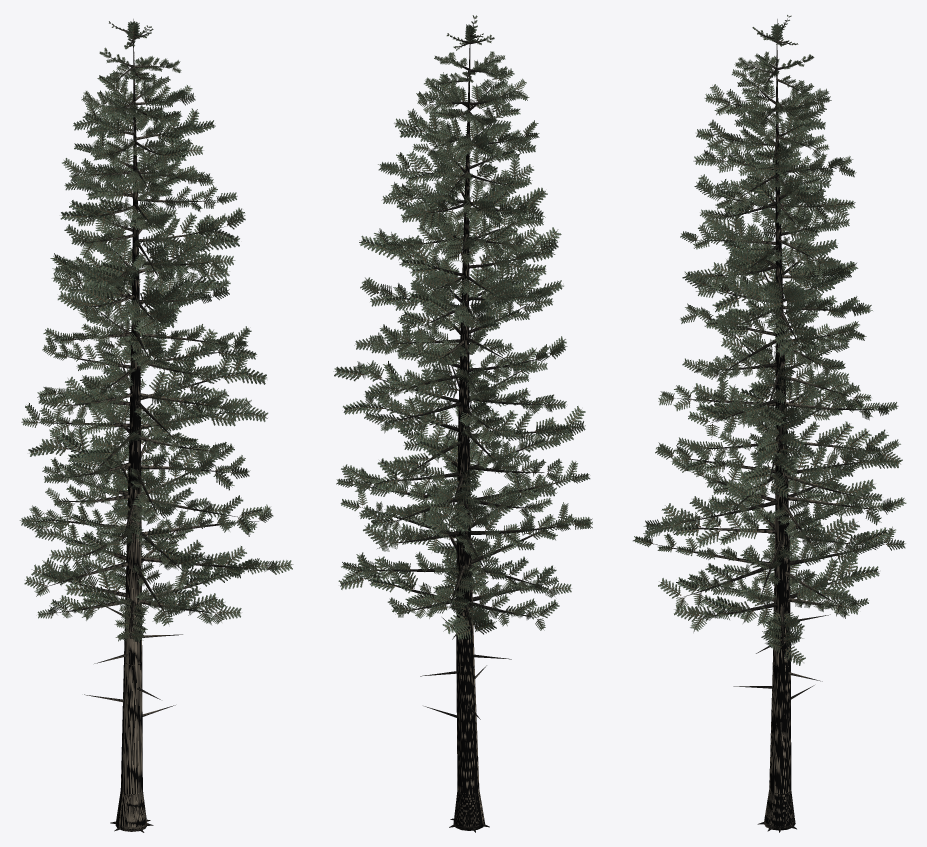
The model's file is Sitka_OldLarge_02_Unpruned_LOD0.fbx.
3 views of the same model, side by side, from view 1: azimuth 30°, elevation 25°; view 2: azimuth 150°, elevation 25°; view 3: azimuth 270°, elevation 25° (orthographic).
Visible parts, largest first — view 1: Sitka_OldLarge_02_Unpruned_LOD0; view 2: Sitka_OldLarge_02_Unpruned_LOD0; view 3: Sitka_OldLarge_02_Unpruned_LOD0.
Boxes of the visible parts, box(x1,y1,x2,y2) form: Sitka_OldLarge_02_Unpruned_LOD0: box(19, 19, 293, 832); Sitka_OldLarge_02_Unpruned_LOD0: box(333, 15, 592, 832); Sitka_OldLarge_02_Unpruned_LOD0: box(633, 15, 906, 832).
Size of the model in its own units: 956 by 3000 by 960.
Materials: 2 (2 with a texture image).
